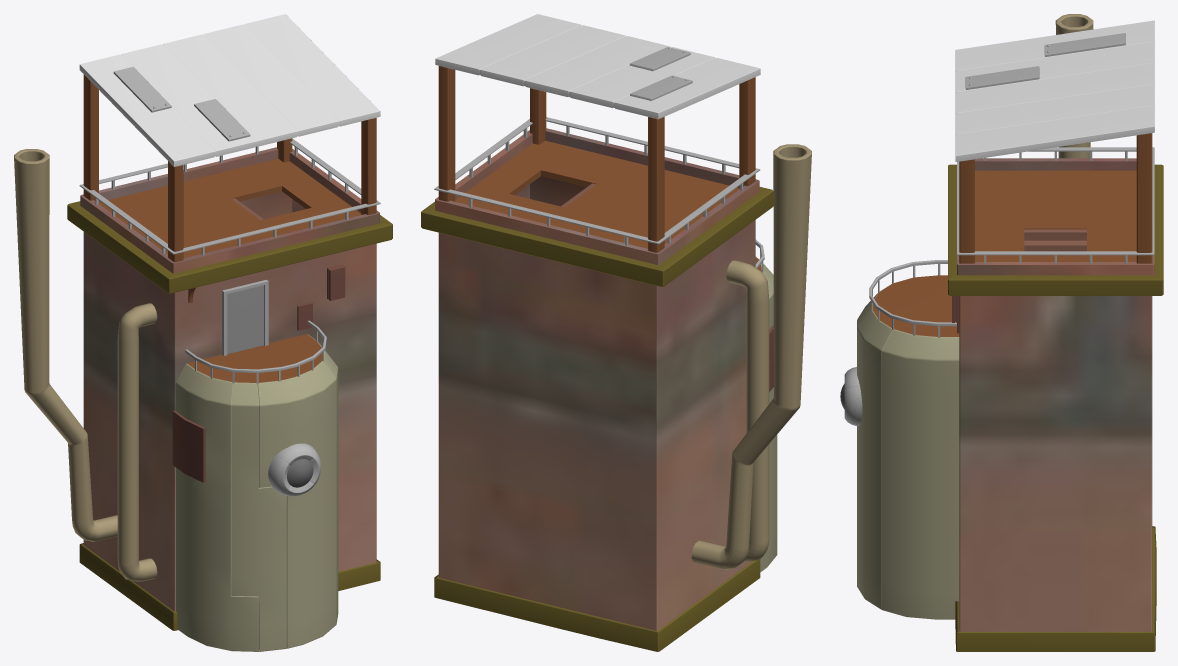
The model's file is SP_ArenaHouse01.fbx.
3 views of the same model, side by side, from view 1: azimuth 30°, elevation 25°; view 2: azimuth 150°, elevation 25°; view 3: azimuth 270°, elevation 25° (orthographic). The views are drawn at different scales.
Parts seen in each view (by area): view 1: SP_ArenaHouse01; view 2: SP_ArenaHouse01; view 3: SP_ArenaHouse01.
Part boxes in pixels (box(x1,y1,x2,y2)): SP_ArenaHouse01: box(14, 14, 392, 651); SP_ArenaHouse01: box(421, 14, 811, 651); SP_ArenaHouse01: box(840, 14, 1163, 651).
Size of the model in its own units: 17.91 by 26.9 by 15.01.
